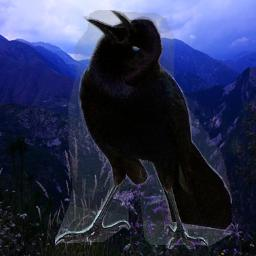Crow: (55, 10, 232, 249)
